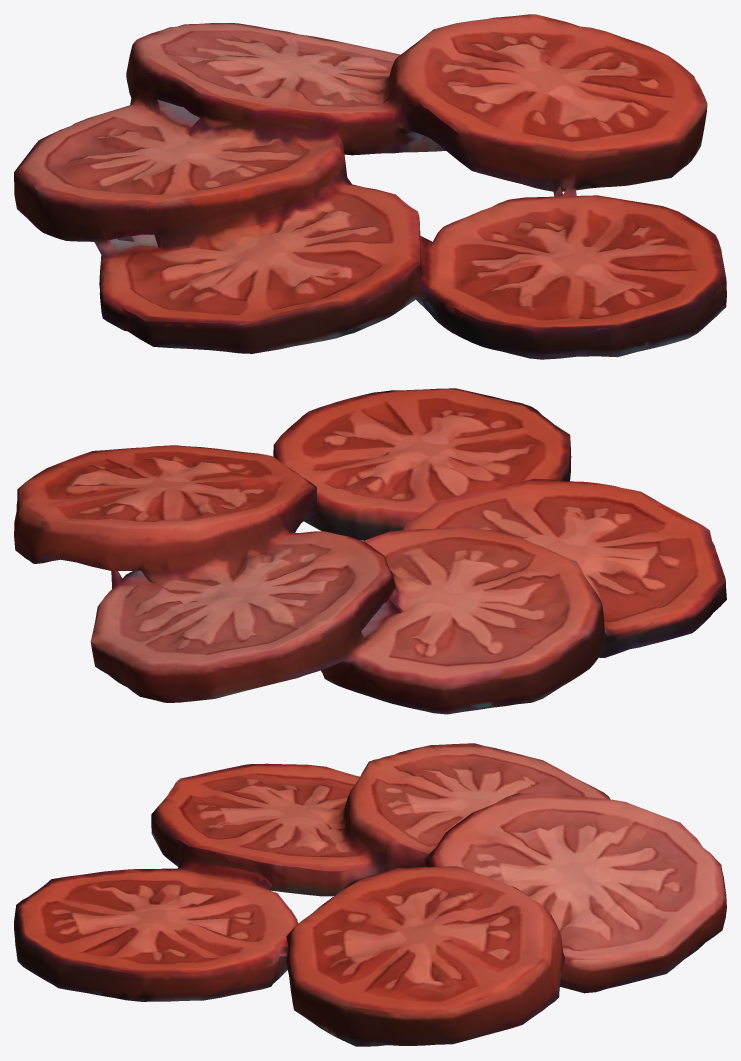
File: tomato_chopped.glb
3 views of the same model, one above another, from view 1: azimuth 30°, elevation 25°; view 2: azimuth 150°, elevation 25°; view 3: azimuth 270°, elevation 25° (orthographic). The views are drawn at different scales.
Parts seen in each view (by area): view 1: TomatoSlices; view 2: TomatoSlices; view 3: TomatoSlices.
Part boxes in pixels (x1=…): TomatoSlices: x1=14, y1=14, x2=726, y2=359; TomatoSlices: x1=14, y1=388, x2=726, y2=714; TomatoSlices: x1=14, y1=743, x2=726, y2=1046.
Bounding box in the file's own units: 0.1384 × 0.0199 × 0.15.
Materials: 1 (1 with a texture image).
